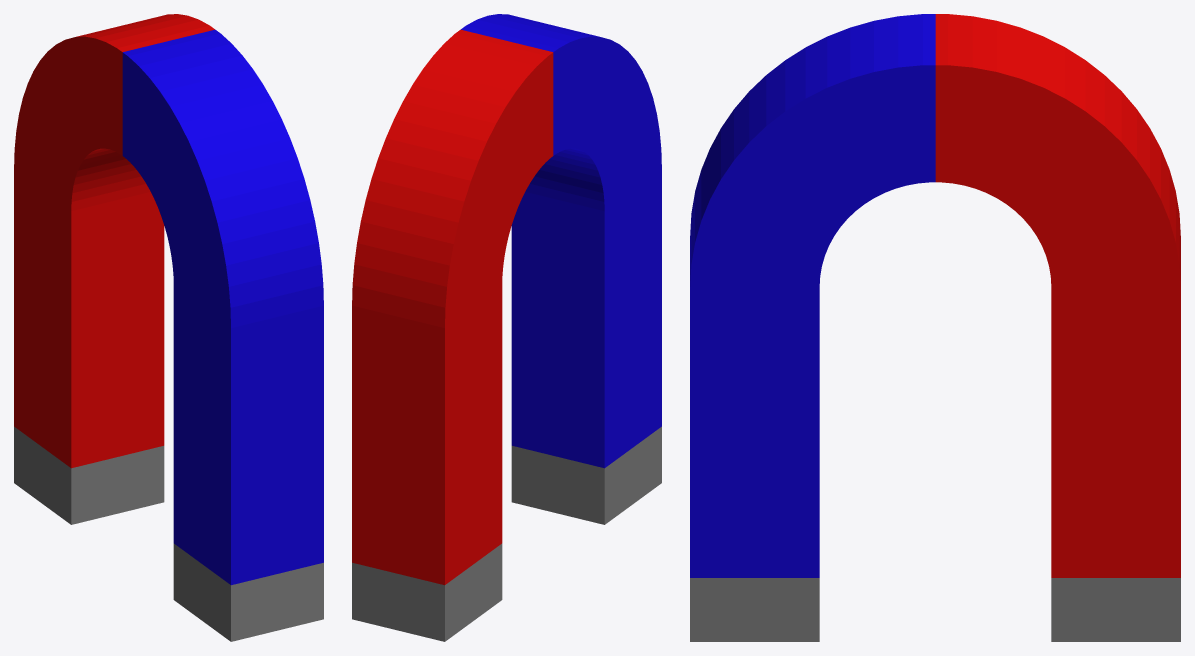
File: magnet.fbx
3 renders of one model, left to right at view 1: azimuth 30°, elevation 25°; view 2: azimuth 150°, elevation 25°; view 3: azimuth 270°, elevation 25°, orthographic. The views are drawn at different scales.
Visible parts, largest first — view 1: Cube.001; view 2: Cube.001; view 3: Cube.001.
Part boxes in pixels (x1,y1,x2,y2): Cube.001: (14, 14, 323, 641); Cube.001: (352, 14, 661, 641); Cube.001: (690, 14, 1180, 641).
Bounding box in the file's own units: 42.73 × 224 × 173.
